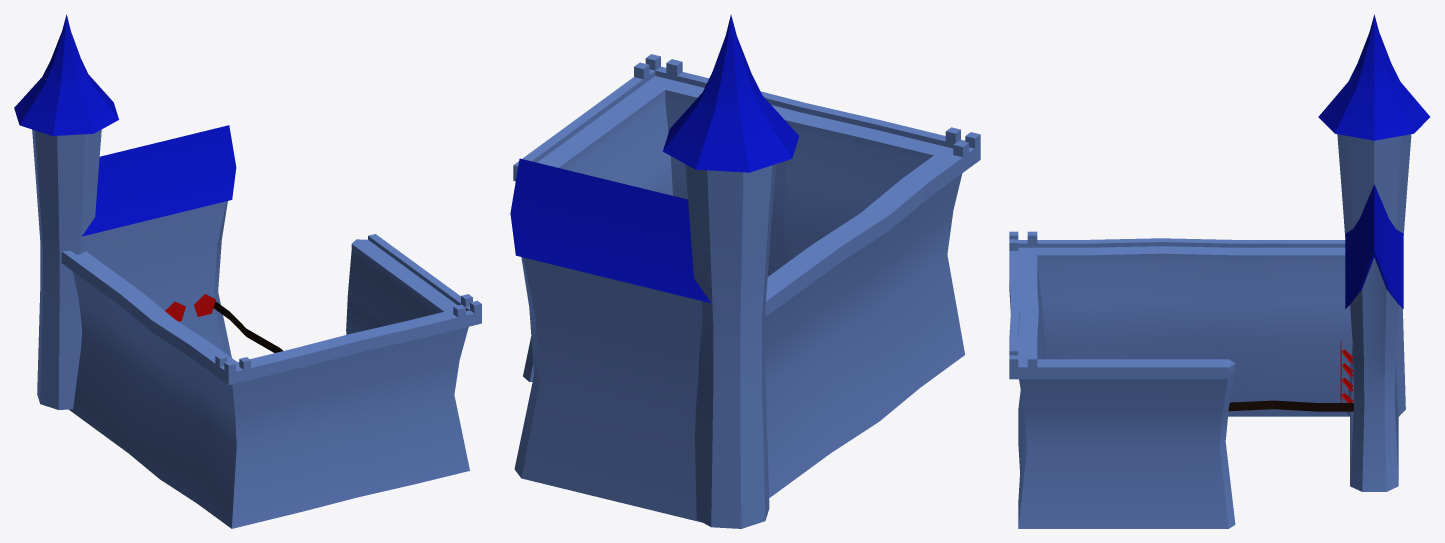
Rendered from Barracks_Am.obj.
The picture shows the model from 3 angles, left to right: view 1: azimuth 30°, elevation 25°; view 2: azimuth 150°, elevation 25°; view 3: azimuth 270°, elevation 25°; orthographic projection. The views are drawn at different scales.
Parts seen in each view (by area): view 1: Cylinder, Cylinder.004; view 2: Cylinder; view 3: Cylinder, Cylinder.004.
Boxes of the visible parts, bbox=[...] form: Cylinder: bbox=[14, 14, 481, 528]; Cylinder.004: bbox=[194, 294, 282, 352]; Cylinder: bbox=[510, 14, 980, 528]; Cylinder: bbox=[1009, 14, 1429, 528]; Cylinder.004: bbox=[1228, 384, 1353, 411].
Size of the model in its own units: 0.9195 by 1.19 by 1.14.
